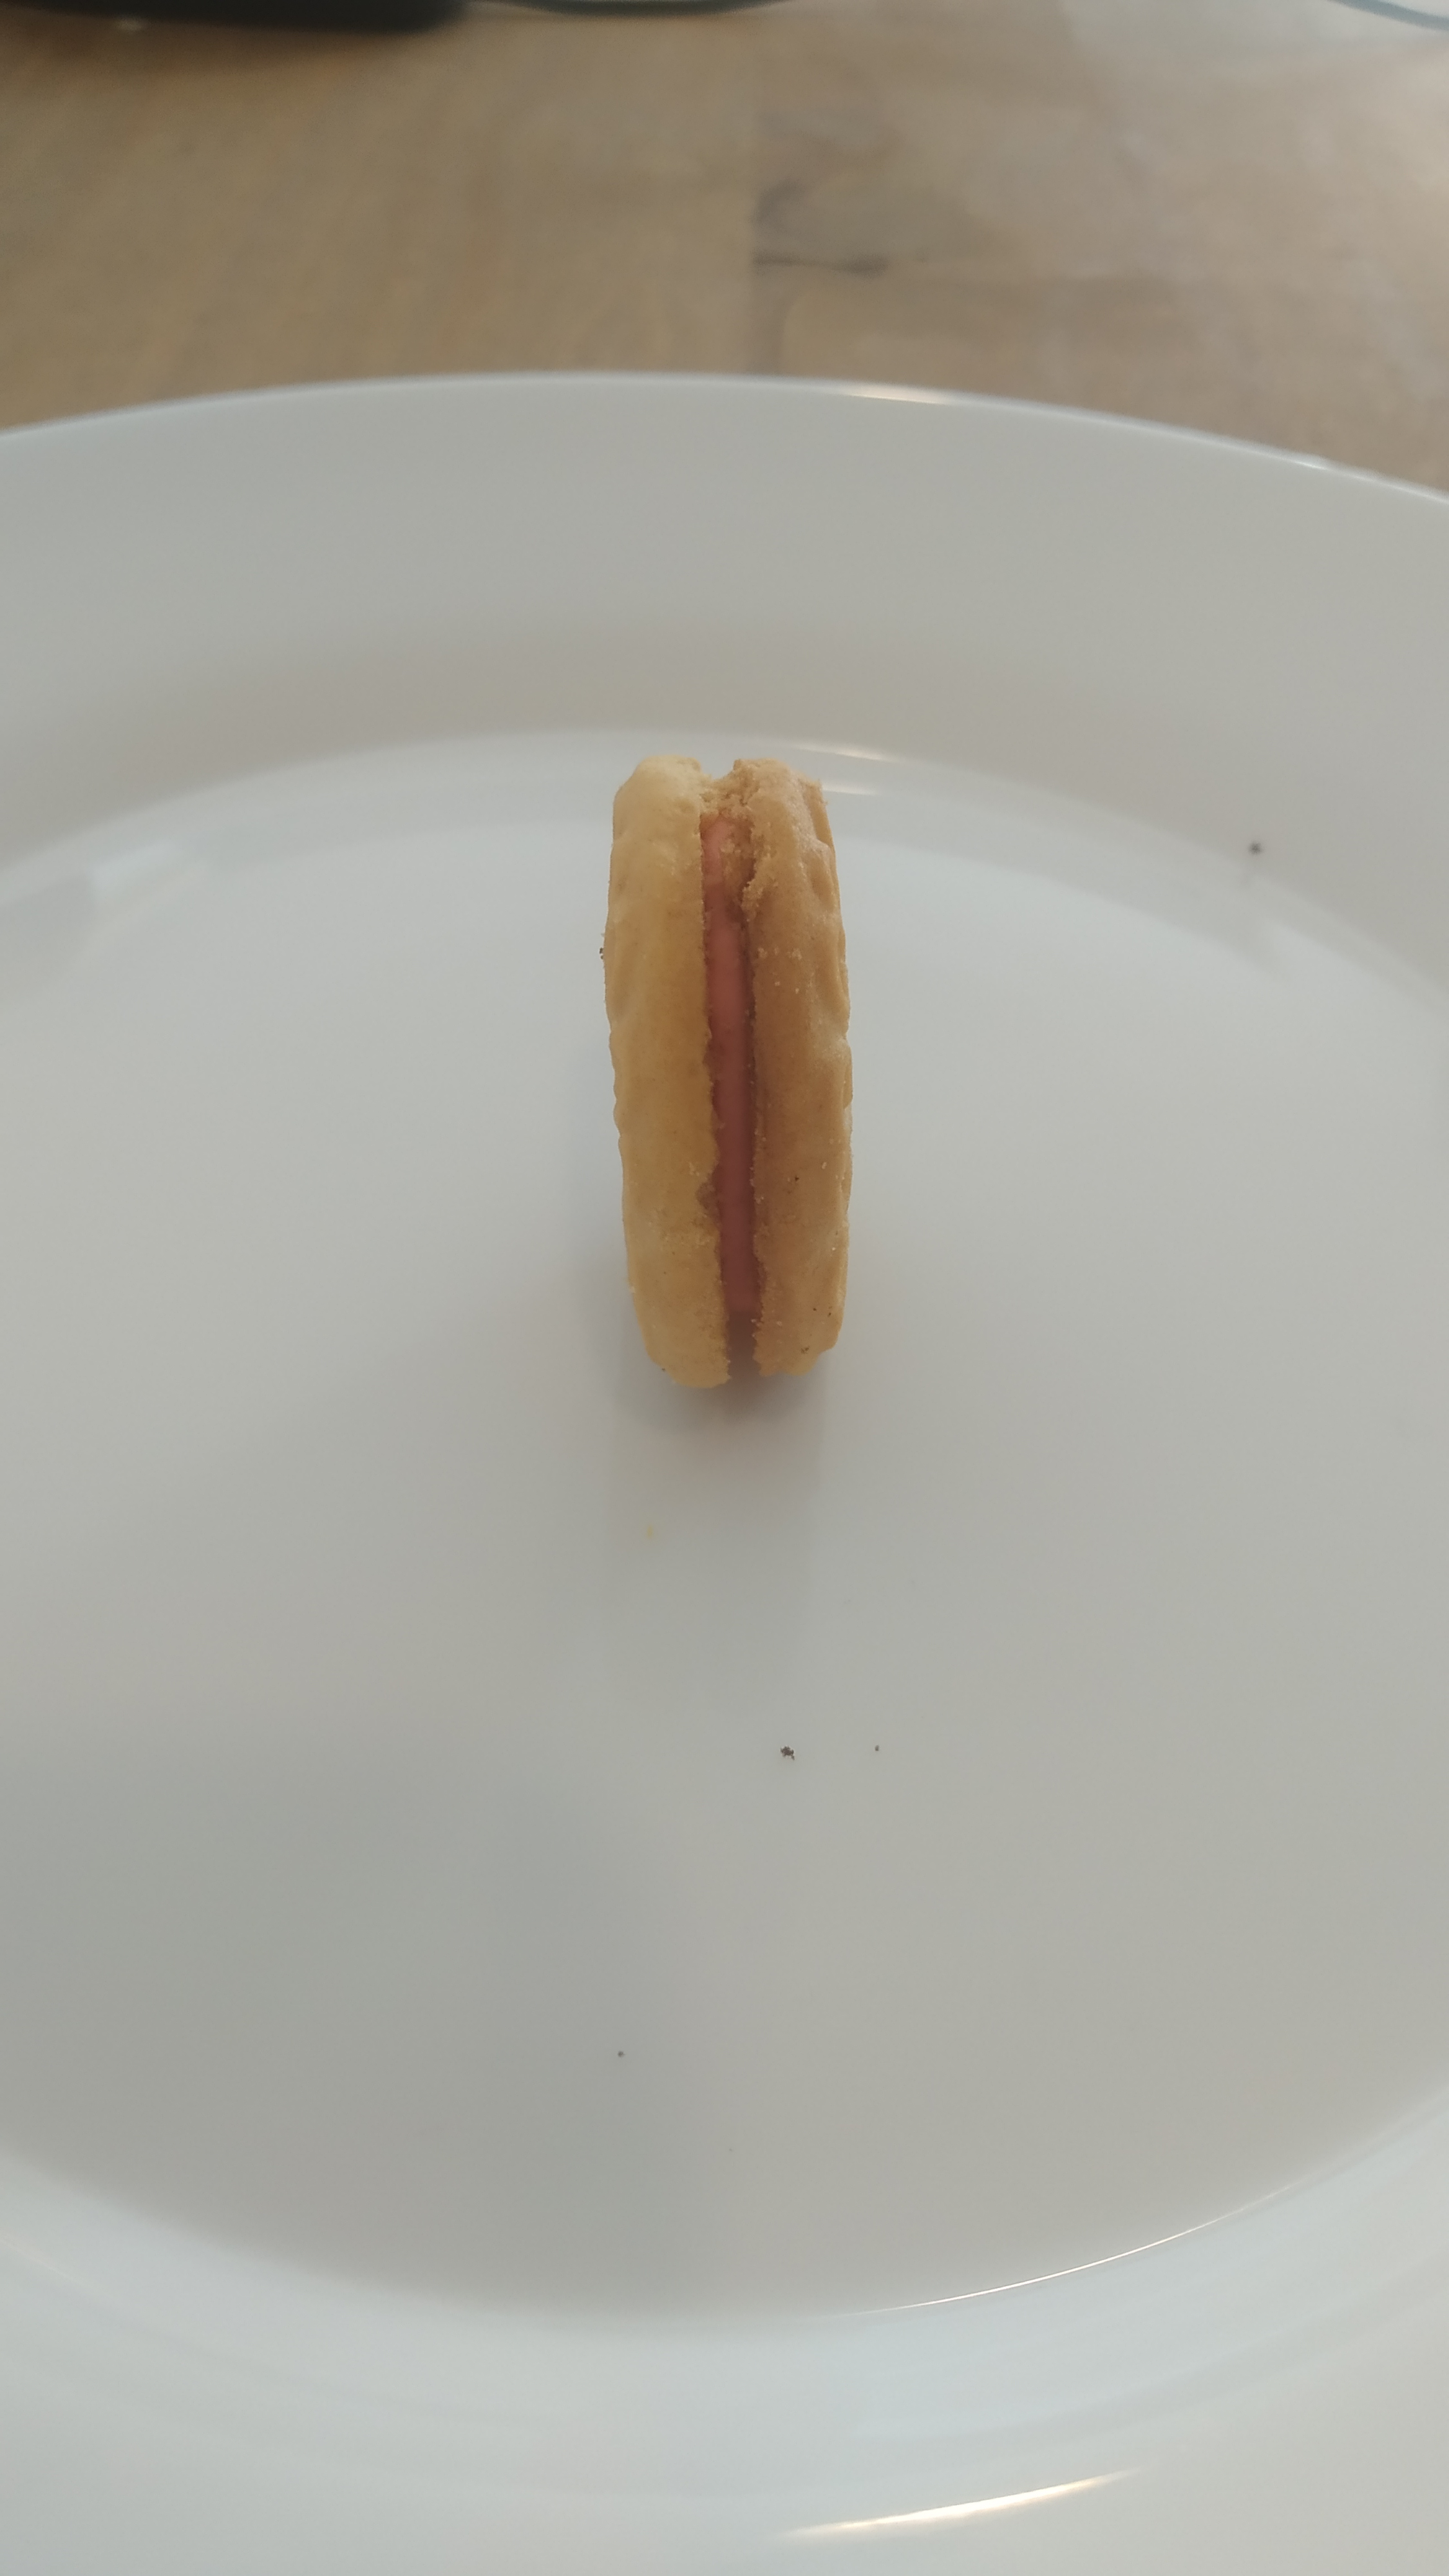lulu: (598, 757, 862, 1394)
